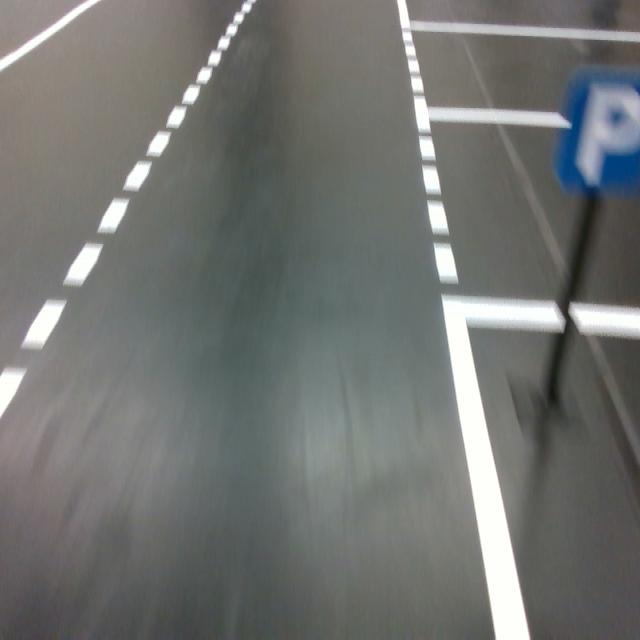parking-sign: (550, 62, 640, 198)
